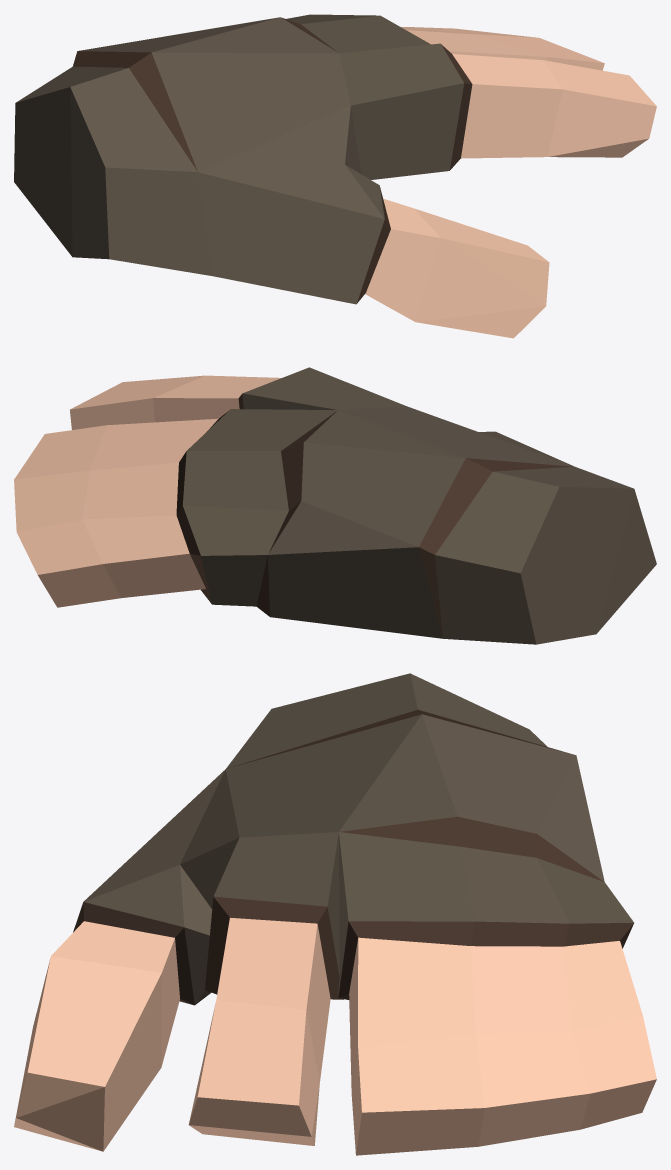
The model's file is Chr_HandLeft_Female_04_Static.fbx.
The picture shows the model from 3 angles, top to bottom: view 1: azimuth 30°, elevation 25°; view 2: azimuth 150°, elevation 25°; view 3: azimuth 270°, elevation 25°; orthographic projection. The views are drawn at different scales.
Visible parts, largest first — view 1: Chr_HandLeft_Female_04_Static; view 2: Chr_HandLeft_Female_04_Static; view 3: Chr_HandLeft_Female_04_Static.
Part boxes in pixels (x1,y1,x2,y2): Chr_HandLeft_Female_04_Static: (14, 14, 656, 338); Chr_HandLeft_Female_04_Static: (14, 367, 656, 644); Chr_HandLeft_Female_04_Static: (14, 673, 656, 1155).
Size of the model in its own units: 0.237 by 0.0985 by 0.188.
